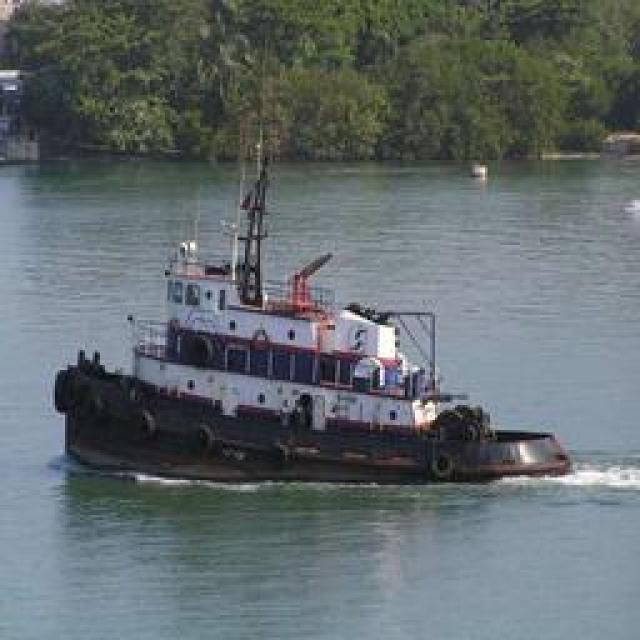CIV_Ship: (46, 176, 564, 476)
